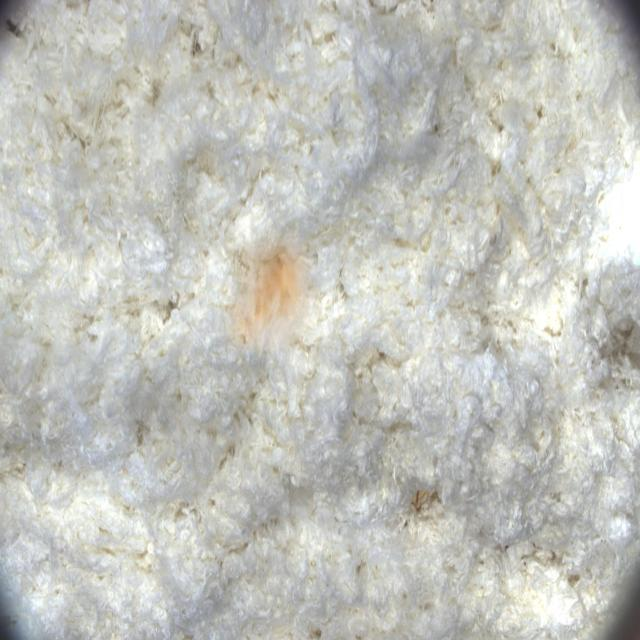dust: (221, 232, 321, 351)
